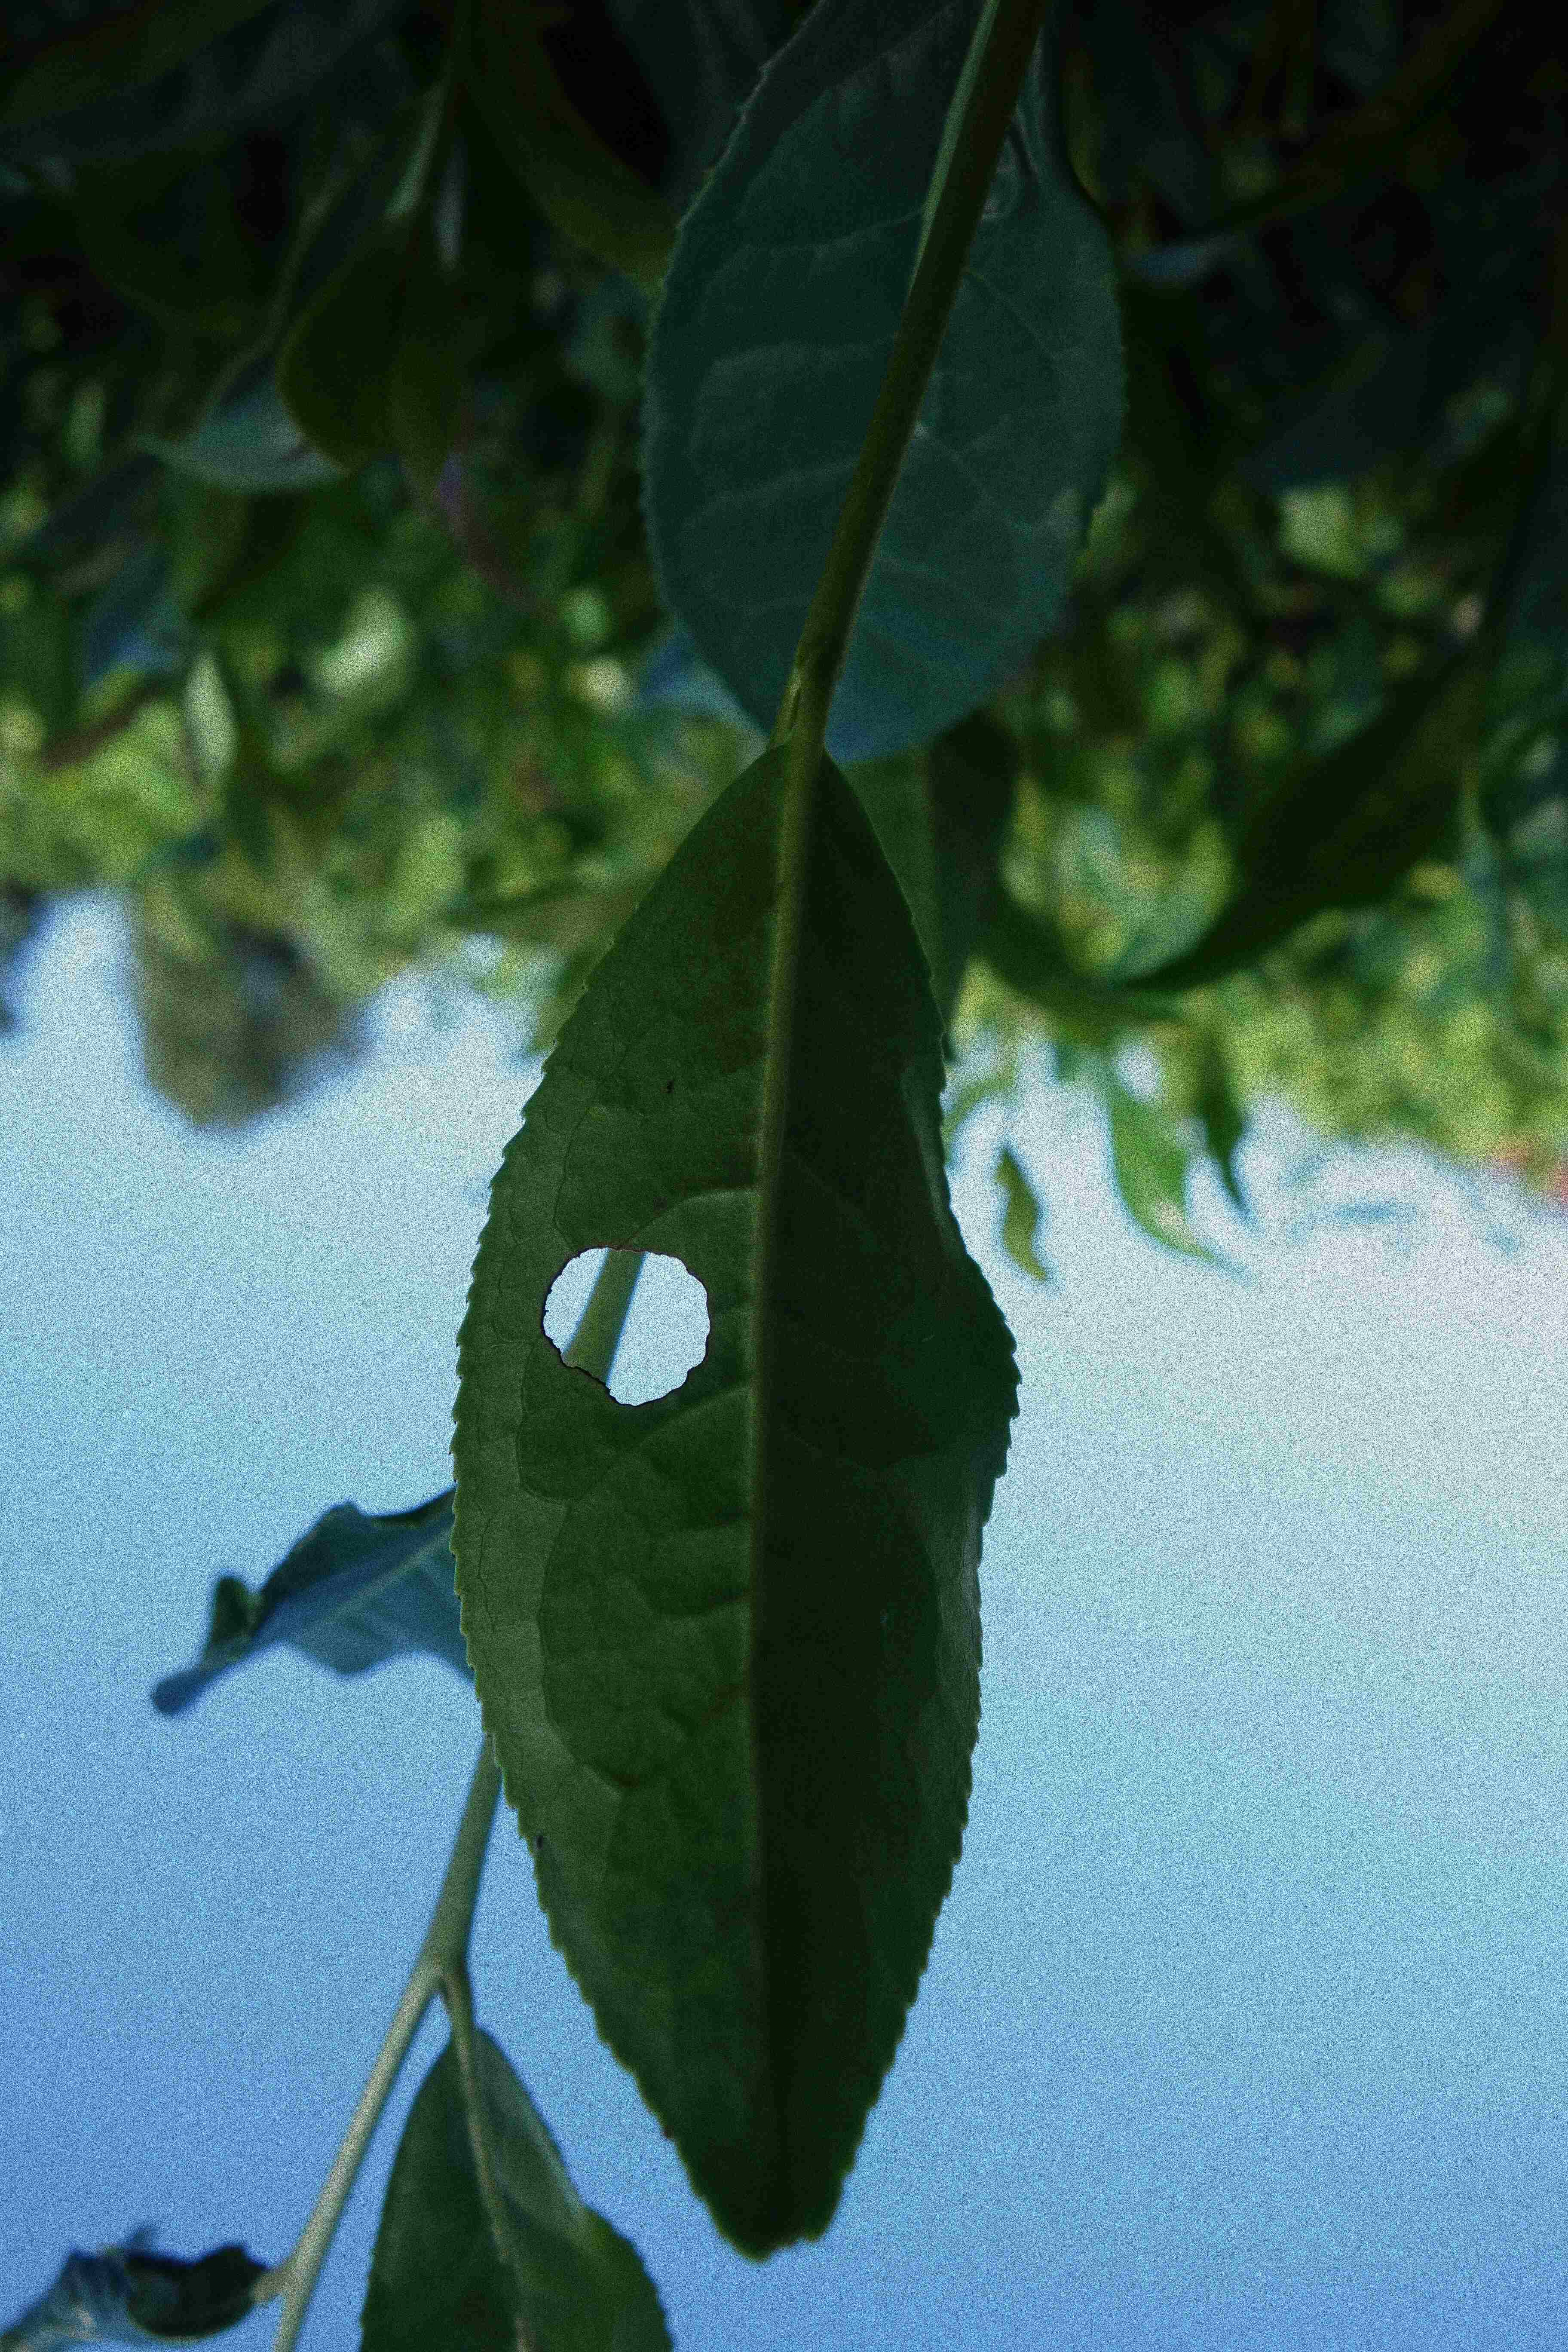chihuo_low: (453, 723, 1024, 2266)
healthy: (632, 10, 1130, 761)
